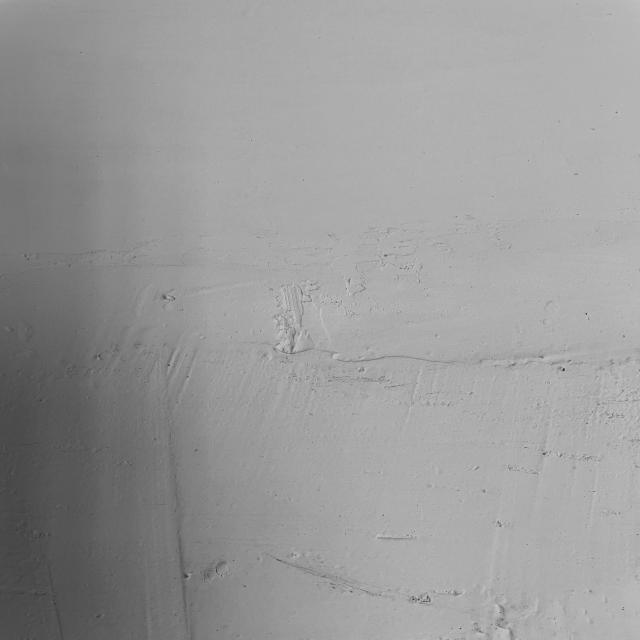pin holes: (180, 572, 194, 583), (569, 170, 582, 178), (586, 126, 598, 134), (524, 154, 532, 164), (547, 617, 560, 623), (610, 108, 621, 115), (379, 512, 388, 520), (238, 581, 248, 588), (581, 311, 592, 317), (490, 193, 499, 200), (538, 137, 546, 144), (303, 144, 312, 150), (140, 218, 149, 224), (214, 628, 223, 634), (378, 144, 385, 151), (254, 234, 262, 240), (618, 333, 626, 339), (337, 512, 345, 518), (555, 119, 563, 124), (560, 348, 568, 353), (535, 196, 544, 200), (166, 362, 172, 368), (622, 606, 628, 612), (150, 81, 157, 86), (575, 211, 582, 216), (342, 531, 349, 536), (248, 138, 256, 142), (446, 265, 454, 269), (547, 208, 552, 214), (497, 609, 502, 615), (261, 180, 268, 184), (300, 178, 307, 182), (78, 50, 84, 54), (294, 144, 300, 148), (156, 149, 162, 153), (600, 104, 604, 110), (459, 626, 463, 632), (216, 180, 221, 184), (450, 626, 455, 630), (94, 155, 100, 158), (238, 129, 244, 132), (265, 132, 269, 136)
rough and patchy surface: (0, 205, 640, 640)
